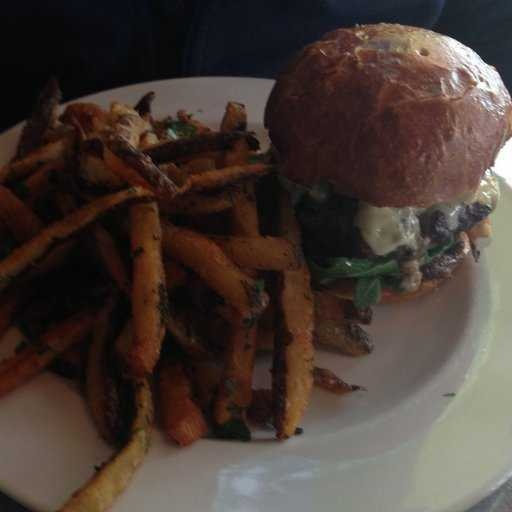hamburger: (246, 13, 512, 329)
